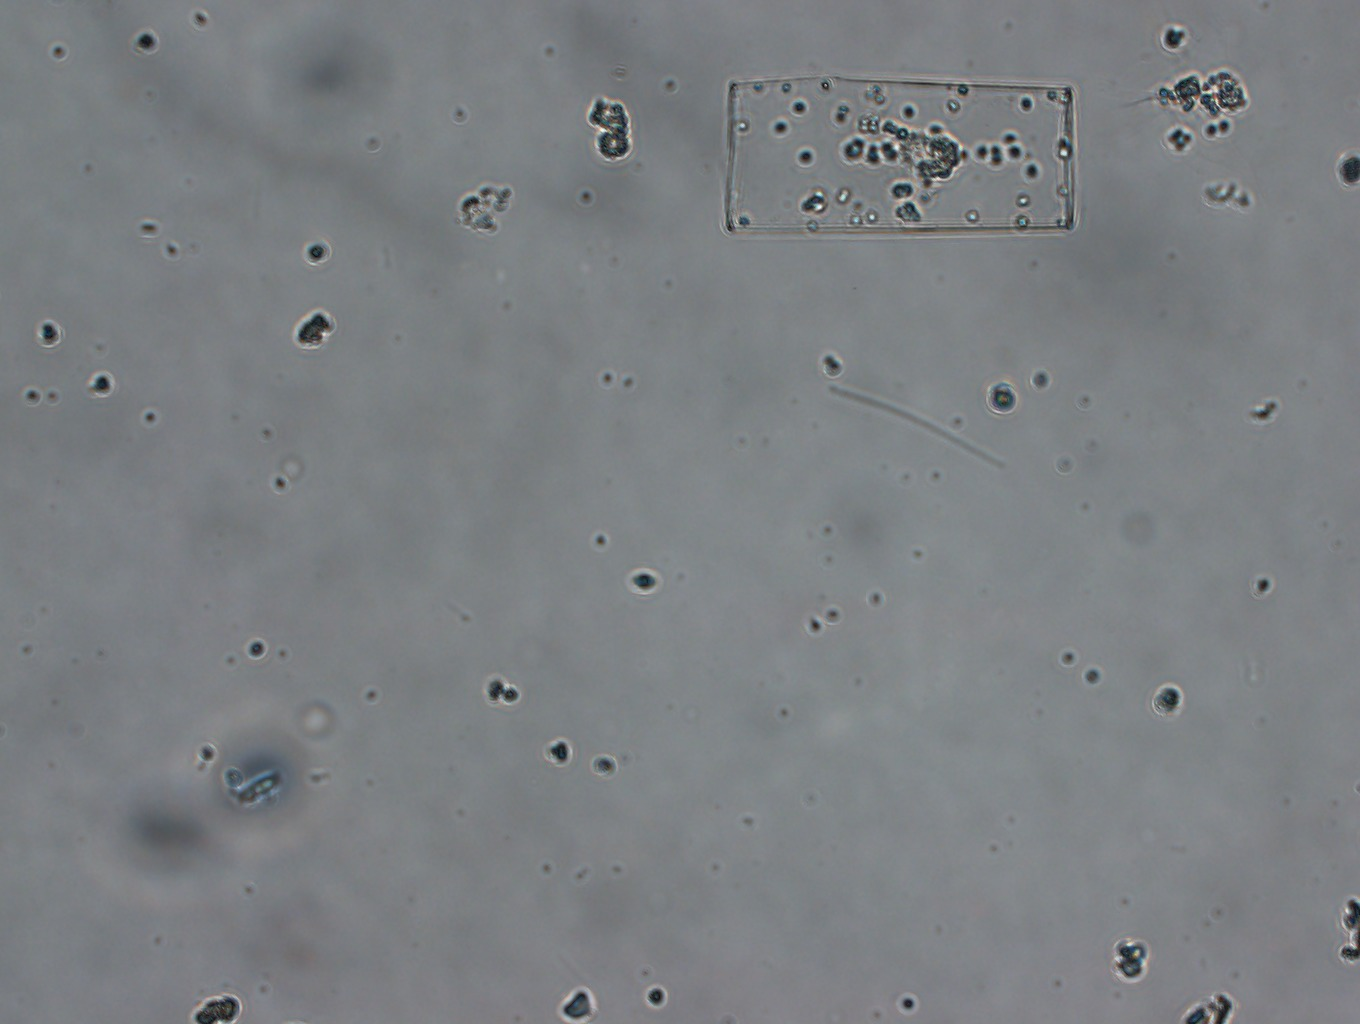guinardia flaccida: (718, 69, 1080, 242)
